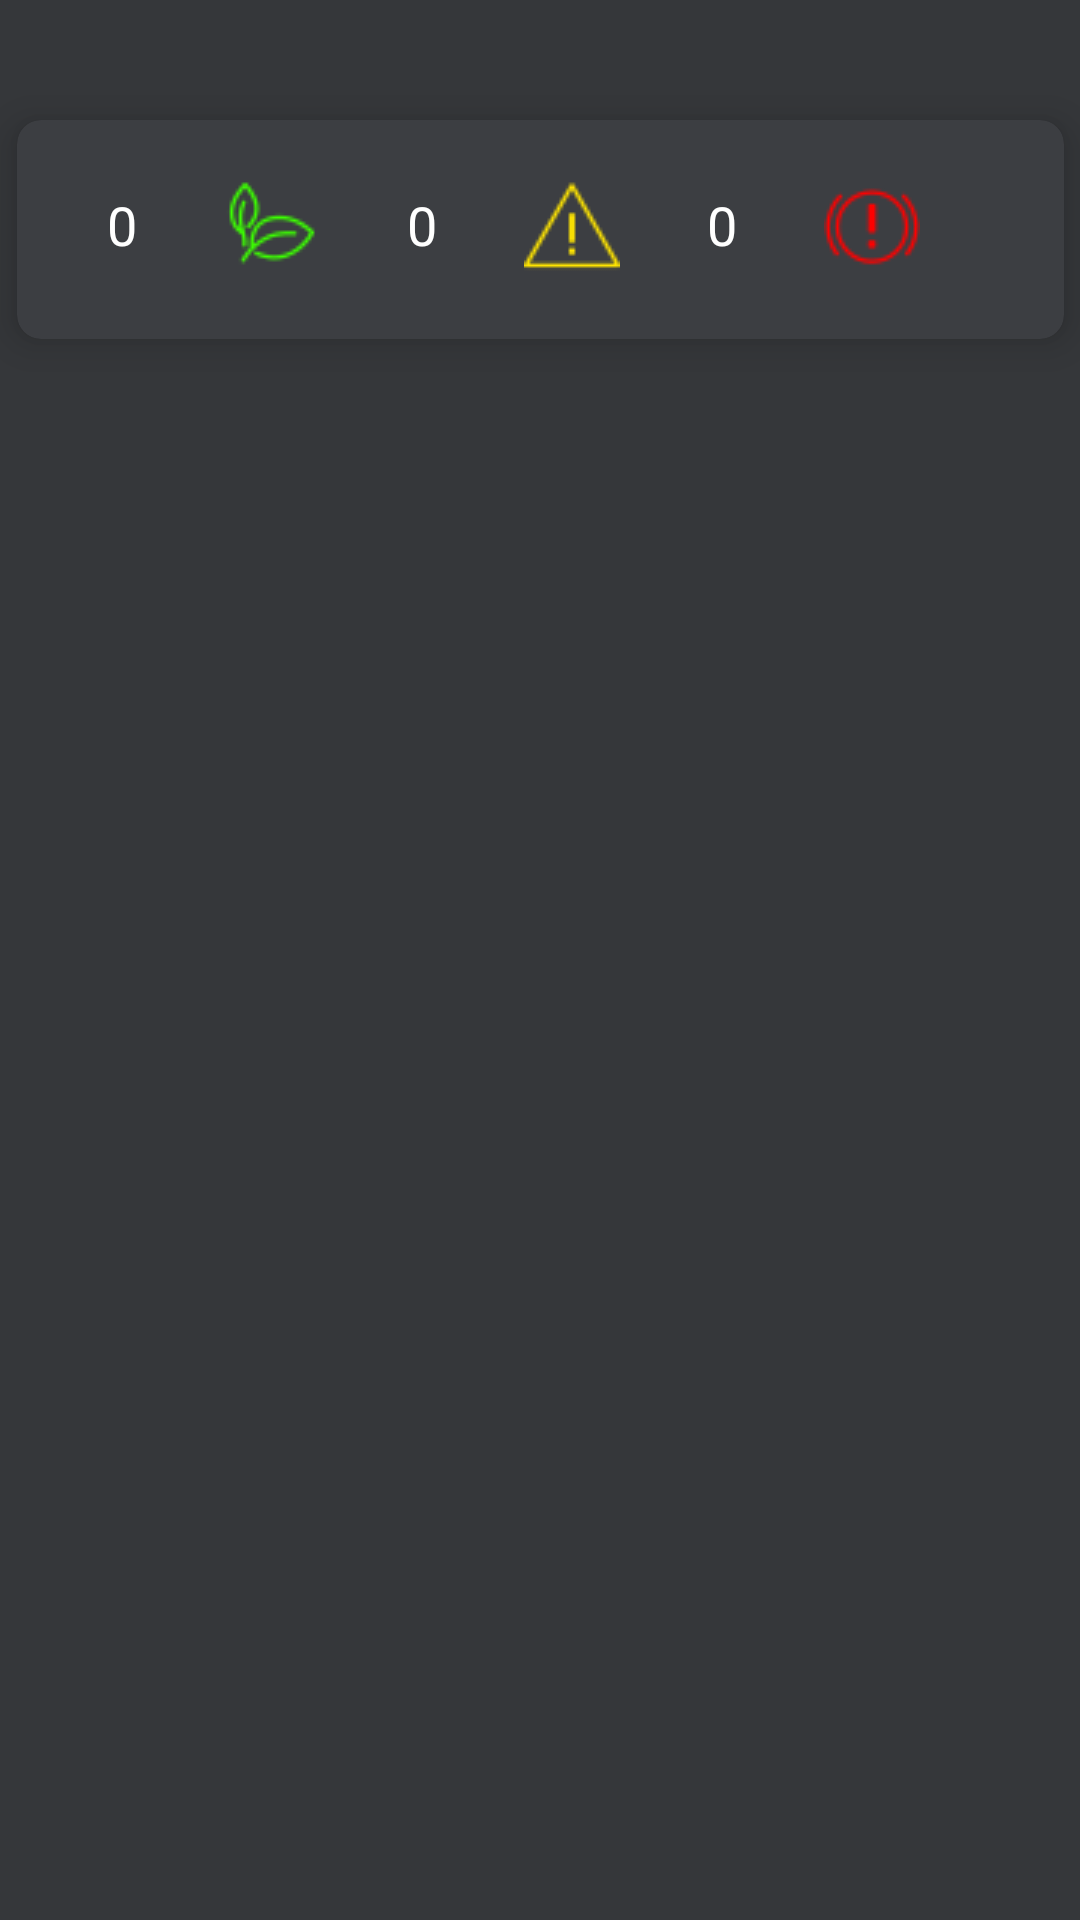

Icons on this 1080px×1920px Android screen, each with the point to tap as point (x, y):
Expired ingredients: point (872, 226)
Fresh ingredients: point (272, 223)
Ingredients expiring soon: point (572, 225)
